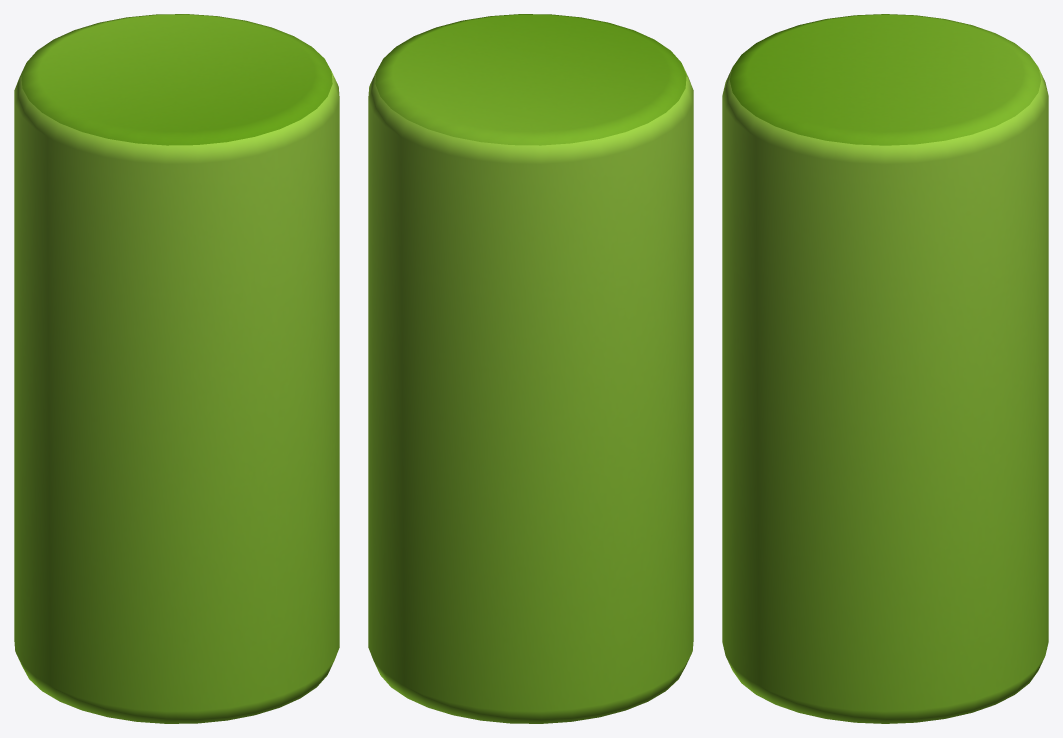
The model's file is BlockCylinderGreen.fbx.
3 renders of one model, left to right at view 1: azimuth 30°, elevation 25°; view 2: azimuth 150°, elevation 25°; view 3: azimuth 270°, elevation 25°, orthographic.
Visible parts, largest first — view 1: Cylinder.006; view 2: Cylinder.006; view 3: Cylinder.006.
Part boxes in pixels (x1,y1,x2,y2): Cylinder.006: (14,14,339,723); Cylinder.006: (368,14,693,723); Cylinder.006: (722,14,1048,723).
Size of the model in its own units: 200 by 400 by 200.
